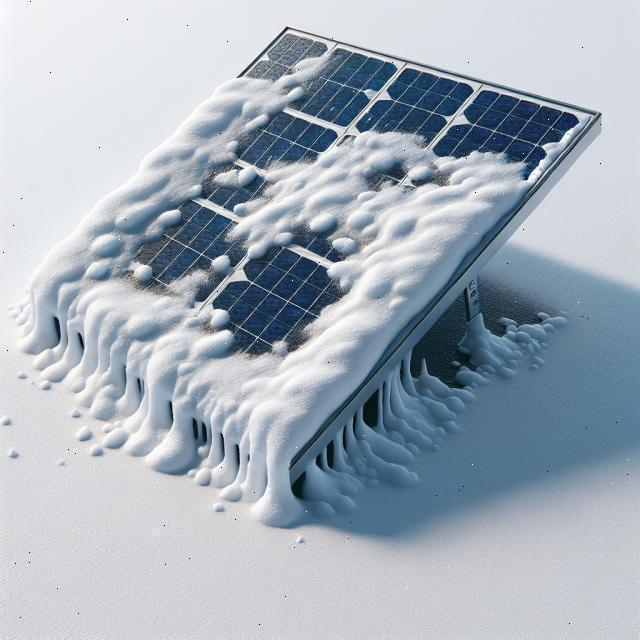Anomaly Solar Panel: (25, 0, 592, 489)
Snow: (28, 0, 587, 487)
